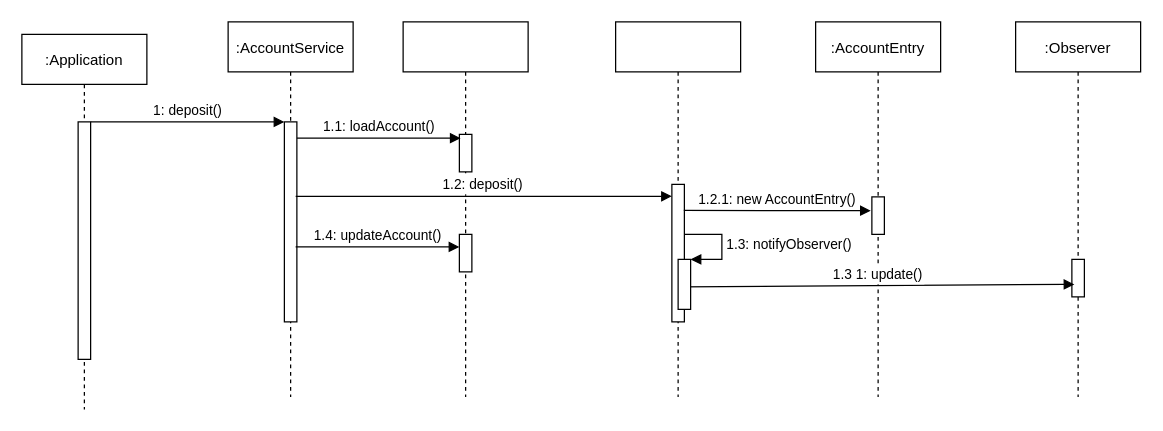
Image size: 1163x431. Some labels were removed from this diagram. Here are the shapes that lost their labels. From the top down, the box of each, then its label:
(402, 21, 528, 397): :AccountDAO
(614, 21, 741, 397): :Account
